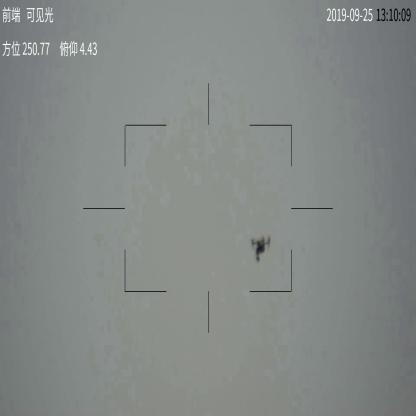uav: (250, 234, 274, 260)
